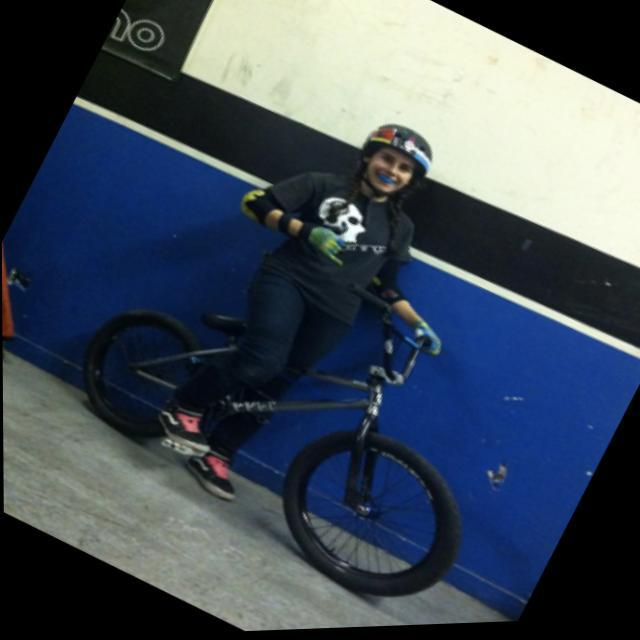Helmet: (354, 123, 441, 203)
